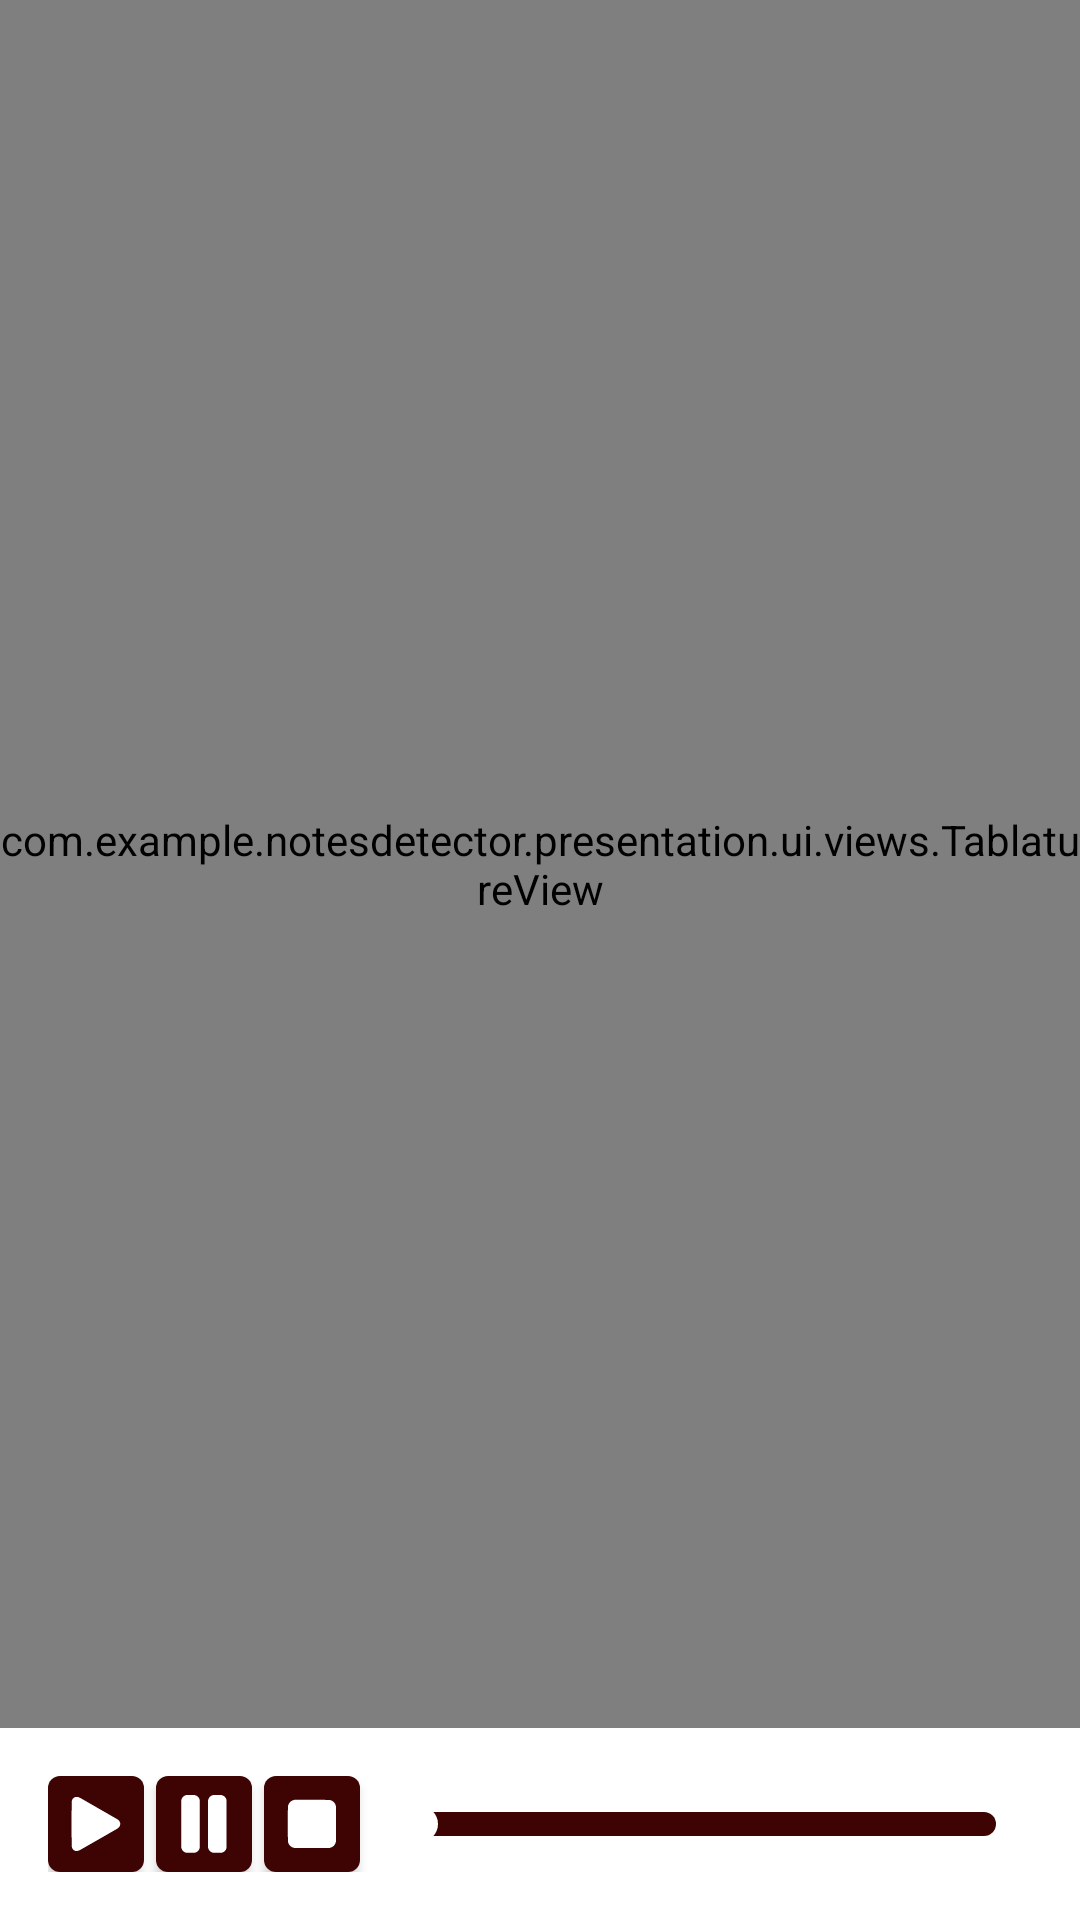

Where icons sit on this 1080px×1920px app screen, as (x1, y1, x2, y2):
pause: (156, 1776, 252, 1872)
play: (48, 1776, 144, 1872)
stop: (264, 1776, 360, 1872)
